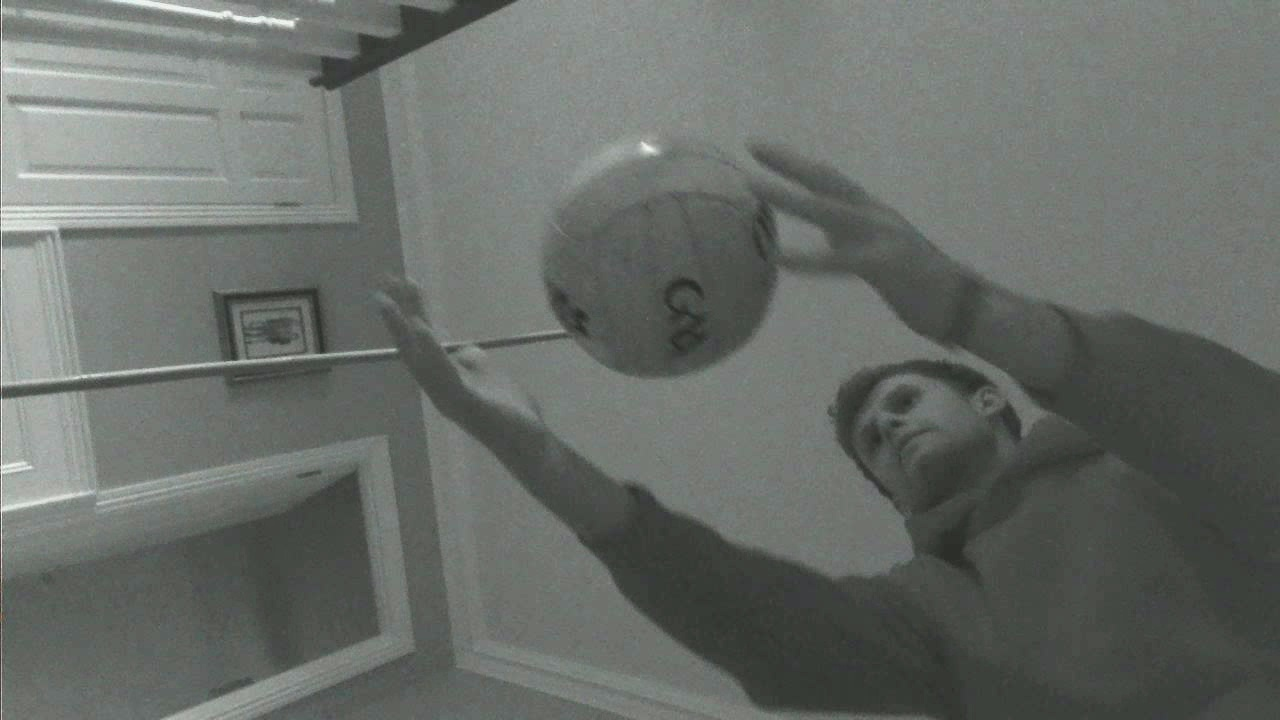Football-Spotter: (543, 137, 776, 376)
